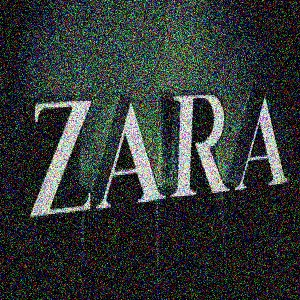zara: (283, 39, 300, 117)
